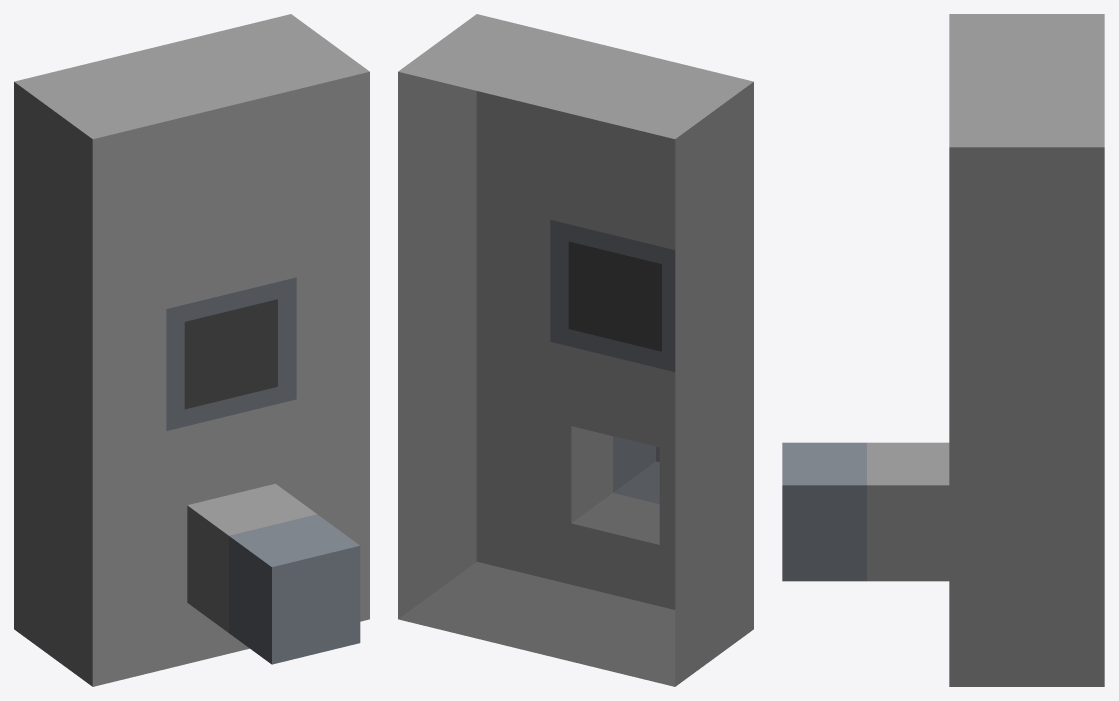
The model's file is SO_SoapDispenser.fbx.
3 renders of one model, left to right at view 1: azimuth 30°, elevation 25°; view 2: azimuth 150°, elevation 25°; view 3: azimuth 270°, elevation 25°, orthographic.
Parts seen in each view (by area): view 1: SO_SoapDispenser; view 2: SO_SoapDispenser; view 3: SO_SoapDispenser.
Part boxes in pixels (<box>): SO_SoapDispenser: <box>14,14,369,686</box>; SO_SoapDispenser: <box>398,14,753,686</box>; SO_SoapDispenser: <box>782,14,1104,686</box>.
Bounding box in the file's own units: 0.2 × 0.3777 × 0.2044.
